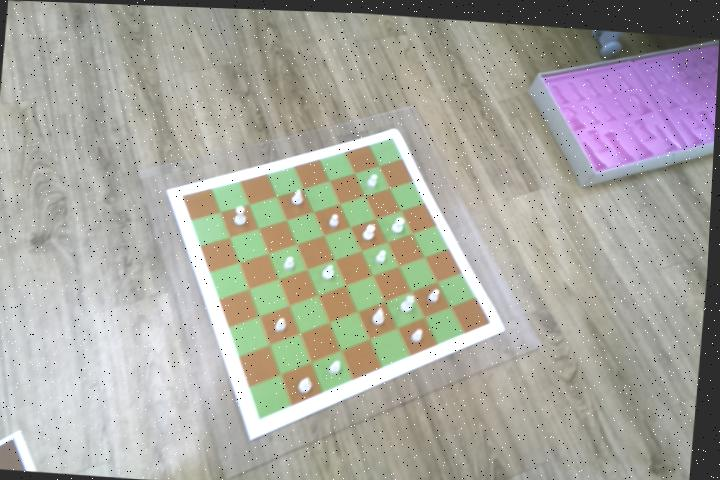chessboard-detect: (183, 133, 493, 418)
